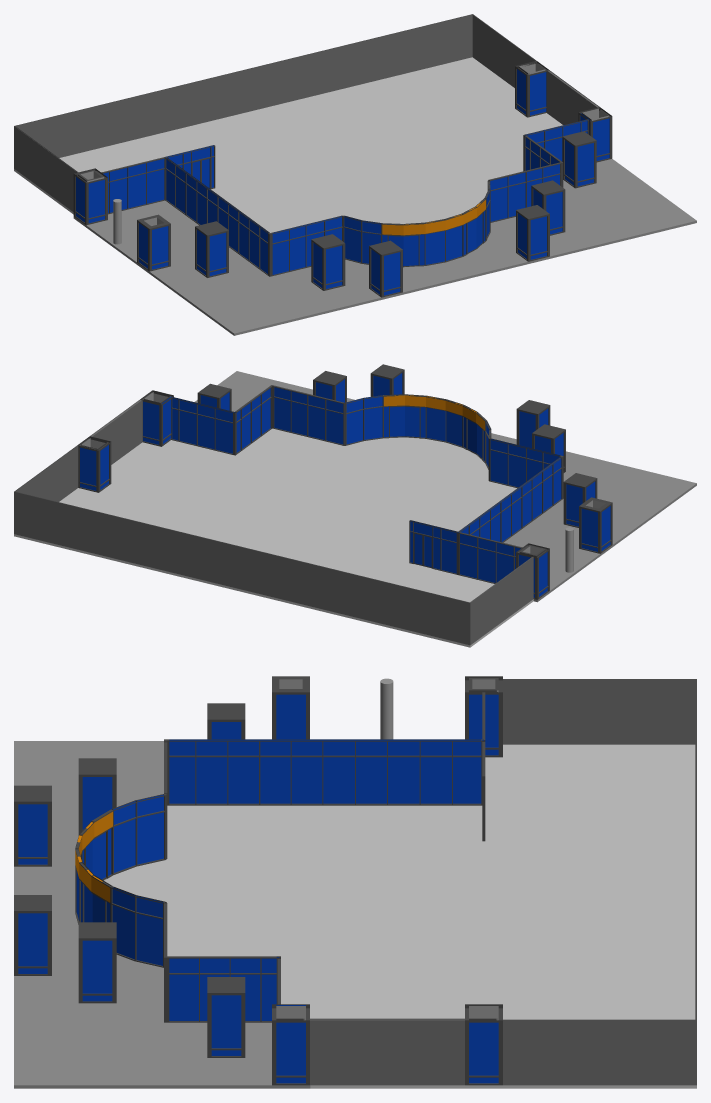
The model's file is floor1.glb.
The picture shows the model from 3 angles, top to bottom: view 1: azimuth 30°, elevation 25°; view 2: azimuth 150°, elevation 25°; view 3: azimuth 270°, elevation 25°; orthographic projection. The views are drawn at different scales.
Visible parts, largest first — view 1: Floor plans 2ND Floor (1), Floor plans 2ND Floor Walls, Floor plans 2ND Floor Window Glass, Floor plans 2ND Floor Window Joinery; view 2: Floor plans 2ND Floor (1), Floor plans 2ND Floor Walls, Floor plans 2ND Floor Window Glass, Floor plans 2ND Floor Window Joinery; view 3: Floor plans 2ND Floor (1), Floor plans 2ND Floor Walls, Floor plans 2ND Floor Window Glass, Floor plans 2ND Floor Window Joinery.
Part boxes in pixels (left/top/right/bottom): Floor plans 2ND Floor (1): left=14, top=57, right=696, bottom=335; Floor plans 2ND Floor Walls: left=14, top=14, right=599, bottom=211; Floor plans 2ND Floor Window Glass: left=103, top=120, right=587, bottom=274; Floor plans 2ND Floor Window Joinery: left=101, top=119, right=588, bottom=276; Floor plans 2ND Floor (1): left=14, top=364, right=696, bottom=647; Floor plans 2ND Floor Walls: left=14, top=399, right=533, bottom=645; Floor plans 2ND Floor Window Glass: left=171, top=387, right=561, bottom=582; Floor plans 2ND Floor Window Joinery: left=171, top=385, right=563, bottom=583; Floor plans 2ND Floor (1): left=14, top=676, right=696, bottom=1088; Floor plans 2ND Floor Walls: left=310, top=679, right=696, bottom=1085; Floor plans 2ND Floor Window Glass: left=75, top=739, right=483, bottom=1020; Floor plans 2ND Floor Window Joinery: left=75, top=692, right=485, bottom=1022.
Size of the model in its own units: 38.44 by 3.57 by 32.24.
